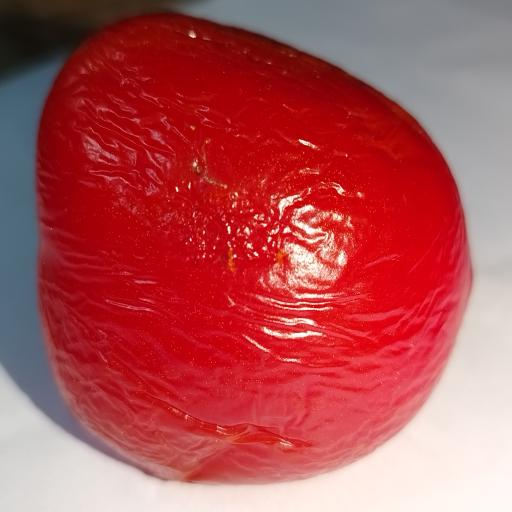spoiled: (36, 14, 471, 481)
